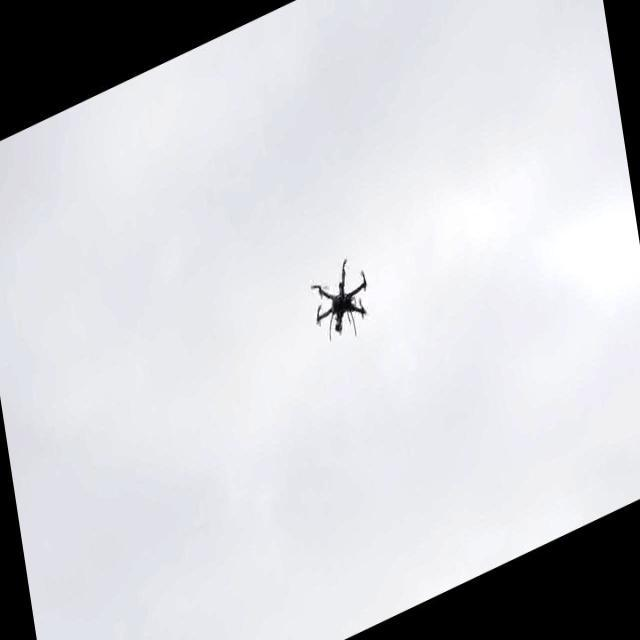drone: (303, 248, 373, 353)
